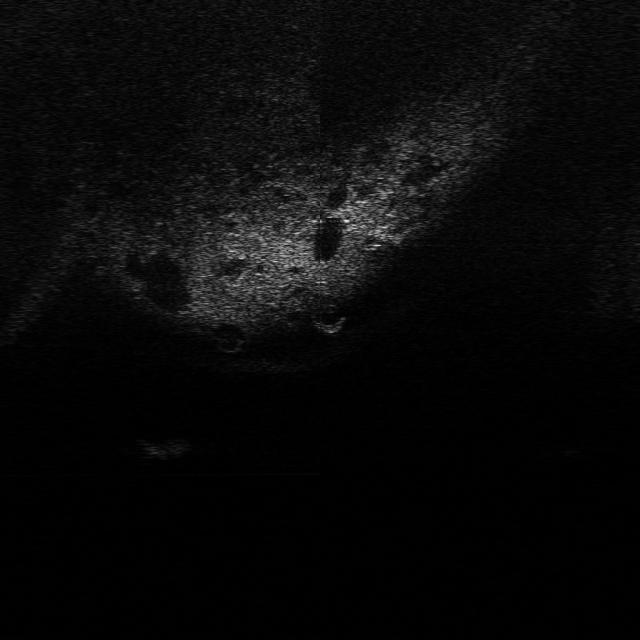ball: (308, 302, 348, 330)
cube: (133, 436, 189, 462)
